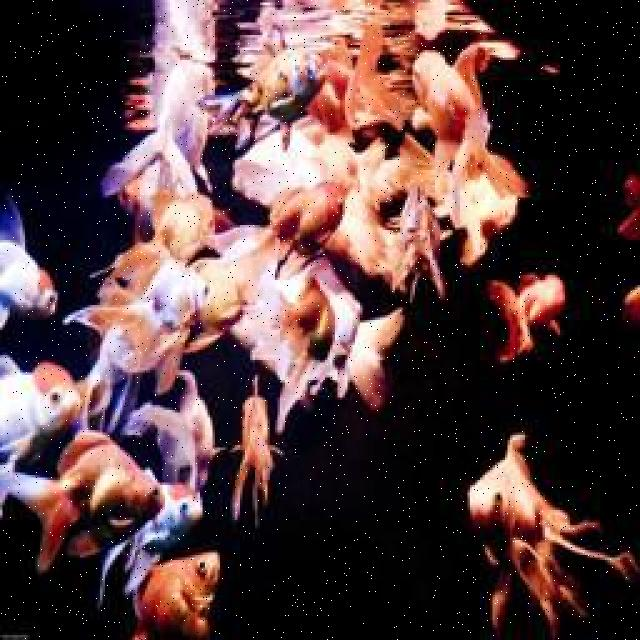fish: (469, 435, 638, 638), (2, 429, 167, 569), (102, 469, 204, 600), (0, 353, 88, 470), (126, 549, 221, 637), (229, 375, 285, 520), (1, 210, 59, 330), (490, 270, 566, 360)
